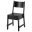chair: (5, 1, 31, 32)
